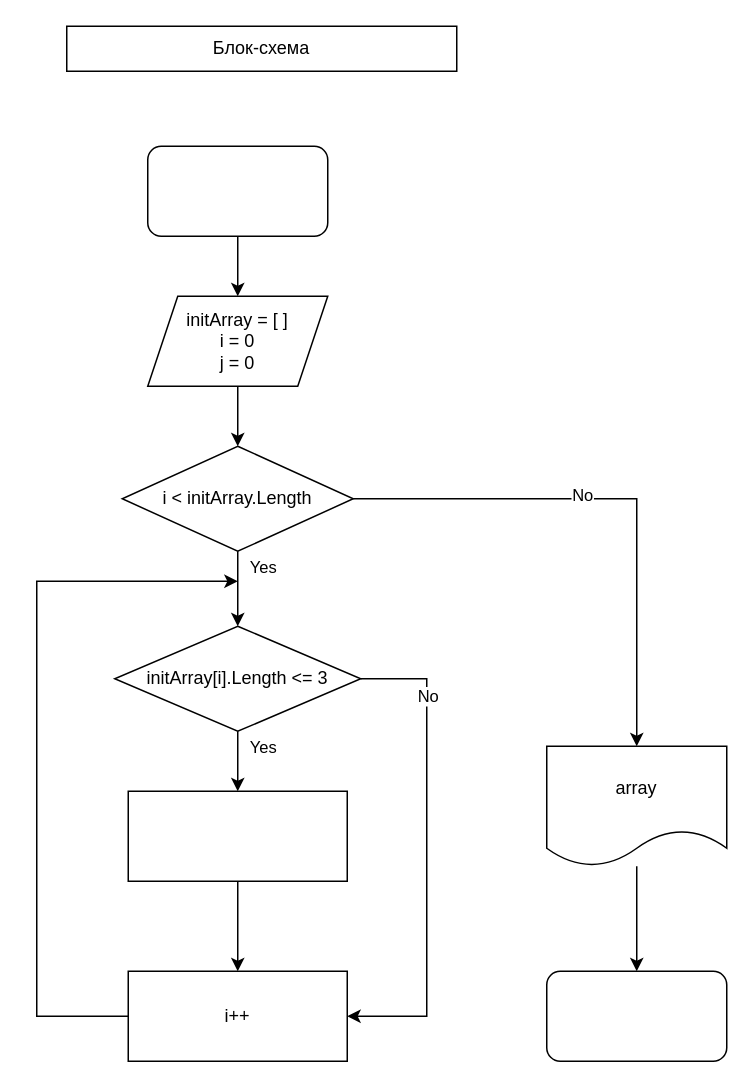
This 753x1088 diagram has some shape labels left out. The centre of each missing label's shape, as x and y in pixels:
End: [636,1015]
Length(array) += 1 newArrary[i] = initArray[i] j++: [237,835]
Start: [237,190]
